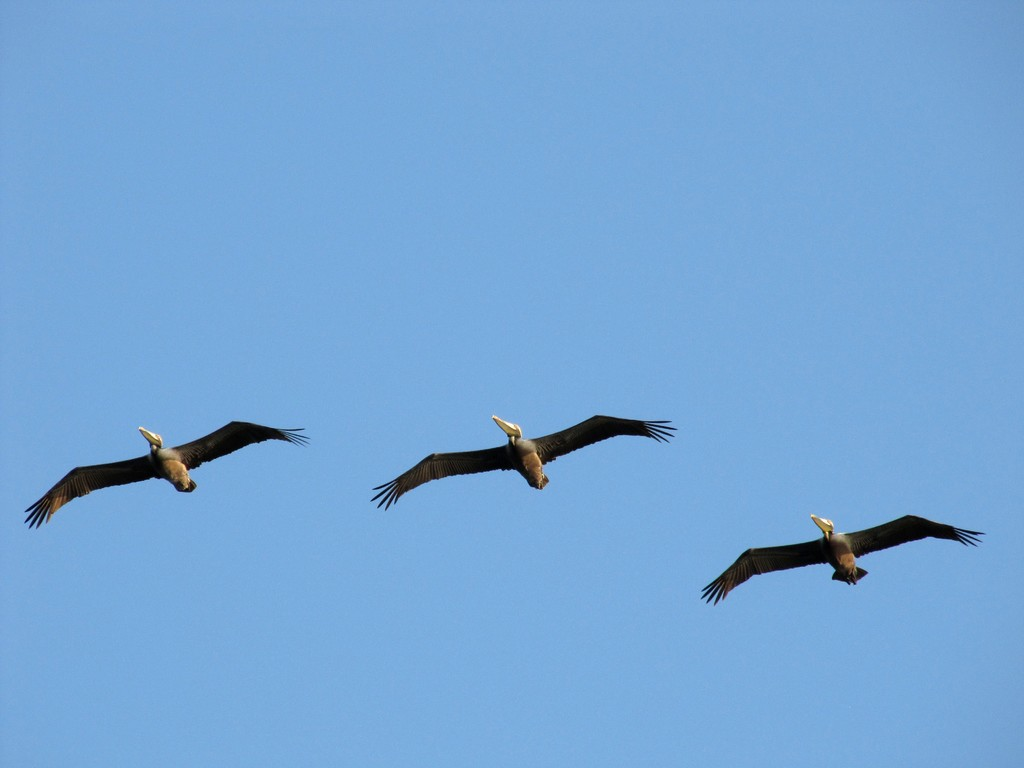person: (17, 409, 679, 516)
